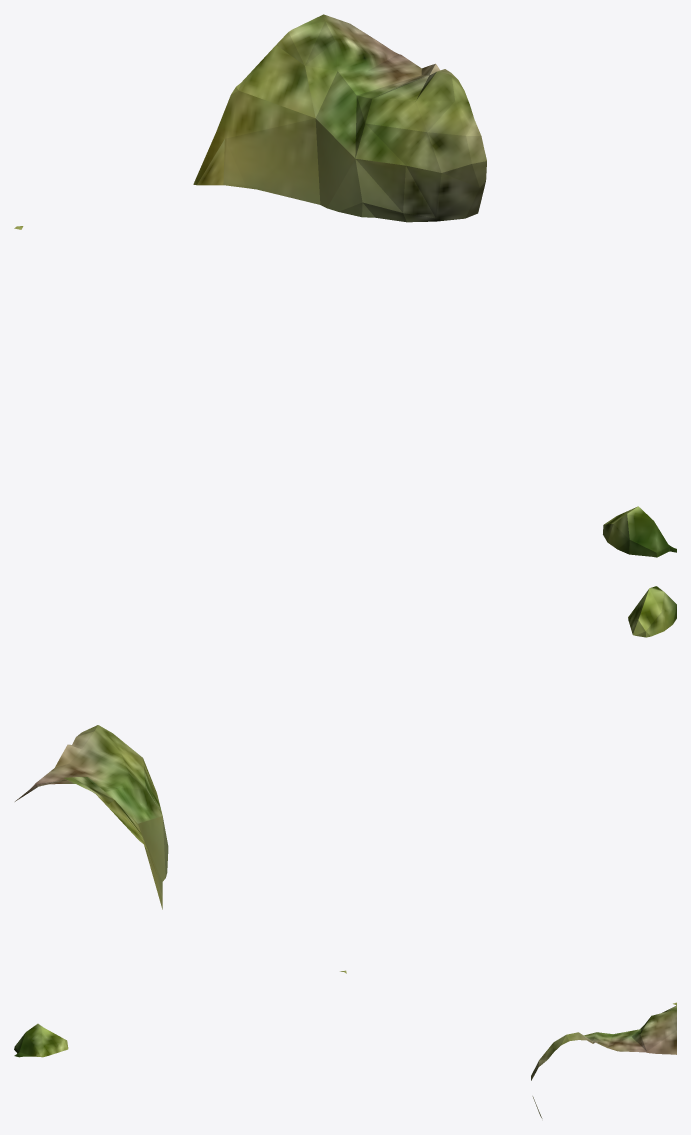
3 renders of one model, top to bottom at view 1: azimuth 30°, elevation 25°; view 2: azimuth 150°, elevation 25°; view 3: azimuth 270°, elevation 25°, orthographic. The views are drawn at different scales.
Size of the model in its own units: 1.23 by 0.4488 by 2.92.
Materials: 1 (1 with a texture image).
